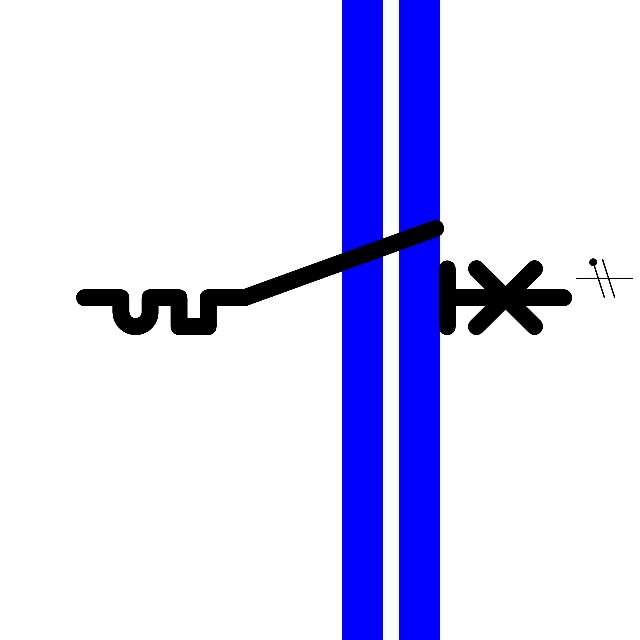interruptor_termomagnetico: (72, 216, 576, 339)
